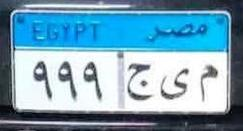9: (57, 61, 79, 99), (33, 60, 52, 100), (84, 59, 100, 103)
jeem: (126, 59, 155, 102)
meem: (198, 64, 221, 103)
yaa: (158, 67, 192, 102)
